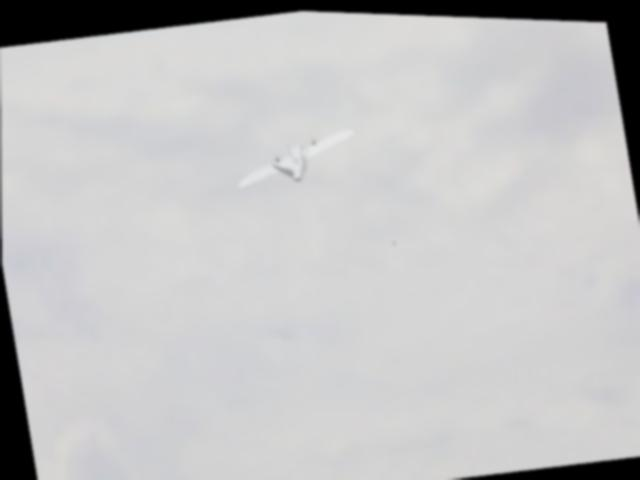uav: (227, 119, 361, 193)
